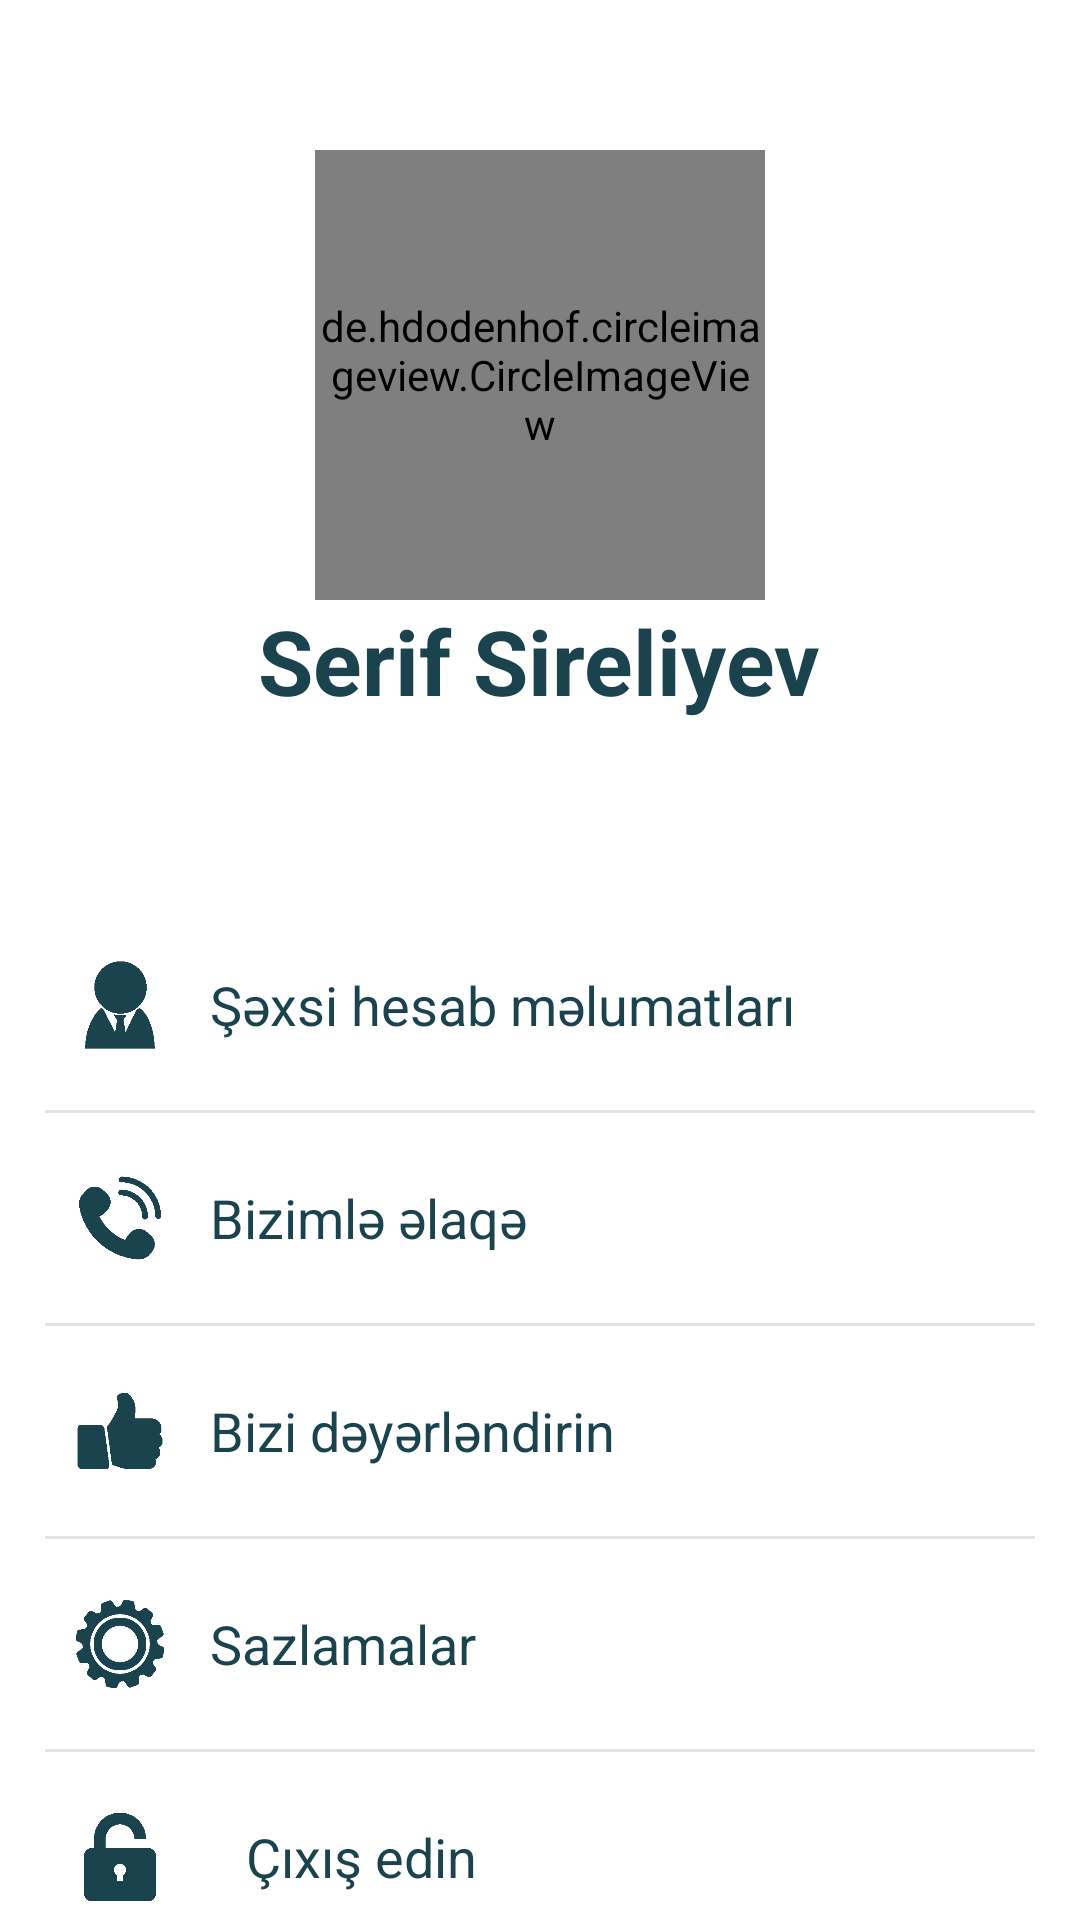

Screen size 1080px x 1920px. Icon name, then its center in pixels as (x,y):
contact: (120,1218)
men: (120,1005)
settingss: (120,1644)
welike: (120,1431)
